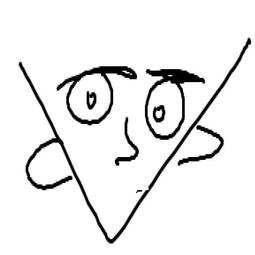ear: (21, 135, 69, 193), (189, 122, 227, 174)
eye: (62, 65, 116, 128), (143, 77, 186, 143)
nose: (112, 113, 140, 169)
